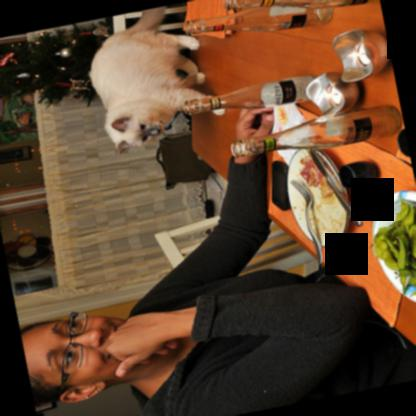handbag: (154, 129, 213, 187)
